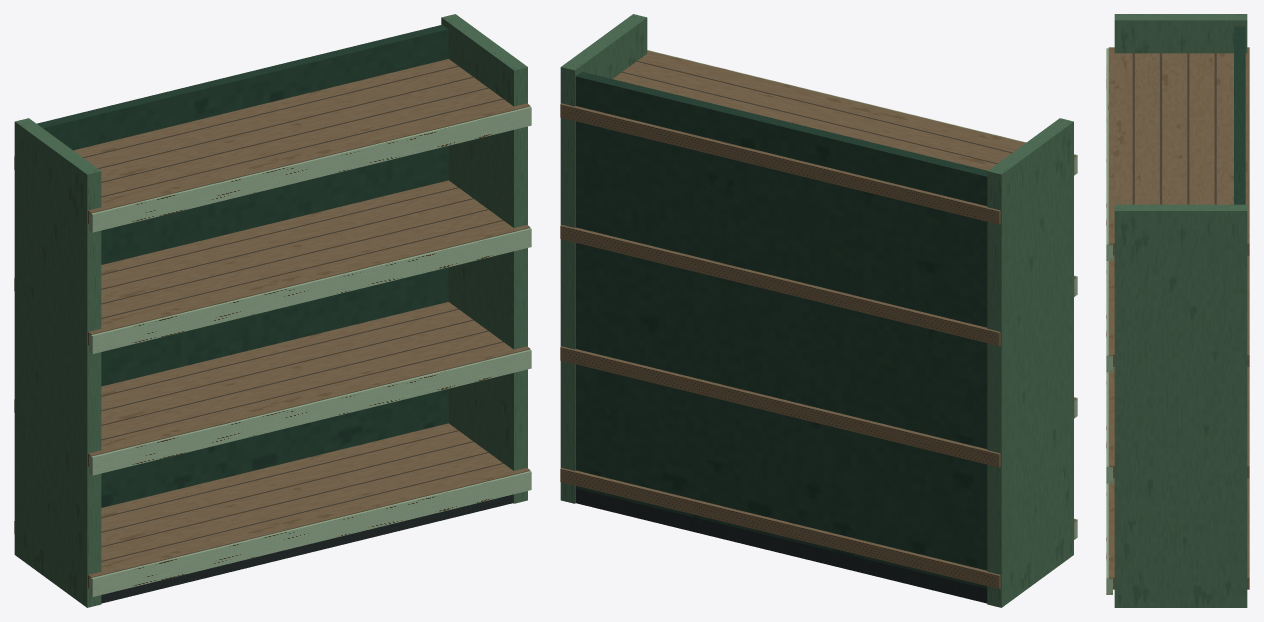
The model's file is GroceryShelf.fbx.
3 views of the same model, side by side, from view 1: azimuth 30°, elevation 25°; view 2: azimuth 150°, elevation 25°; view 3: azimuth 270°, elevation 25° (orthographic). The views are drawn at different scales.
Parts seen in each view (by area): view 1: GroceryShelf; view 2: GroceryShelf; view 3: GroceryShelf.
Part boxes in pixels (left/top/right/bottom): GroceryShelf: left=14, top=14, right=531, bottom=607; GroceryShelf: left=560, top=14, right=1077, bottom=607; GroceryShelf: left=1106, top=14, right=1249, bottom=607.
Bounding box in the file's own units: 281 × 264 × 86.5.
